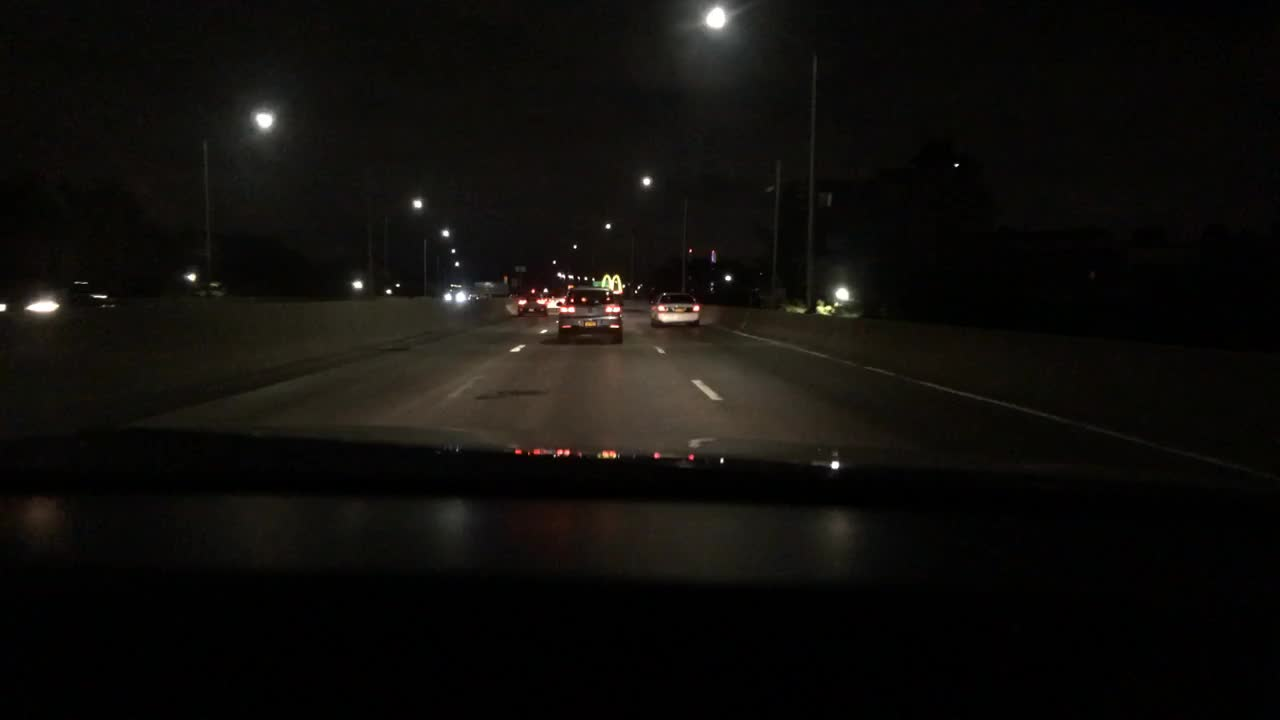car: (555, 286, 625, 344), (0, 278, 120, 311), (649, 290, 701, 329), (182, 274, 245, 300), (349, 275, 402, 298), (829, 279, 861, 308), (516, 289, 549, 317), (441, 287, 467, 300), (467, 291, 490, 300)
